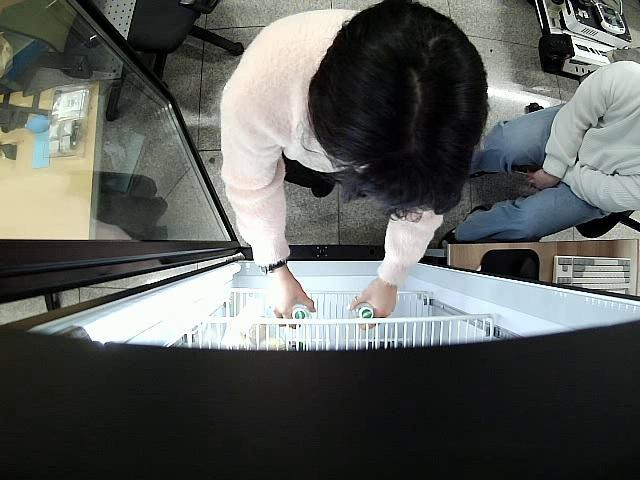18_trevi: (349, 296, 374, 324), (290, 304, 312, 328)
